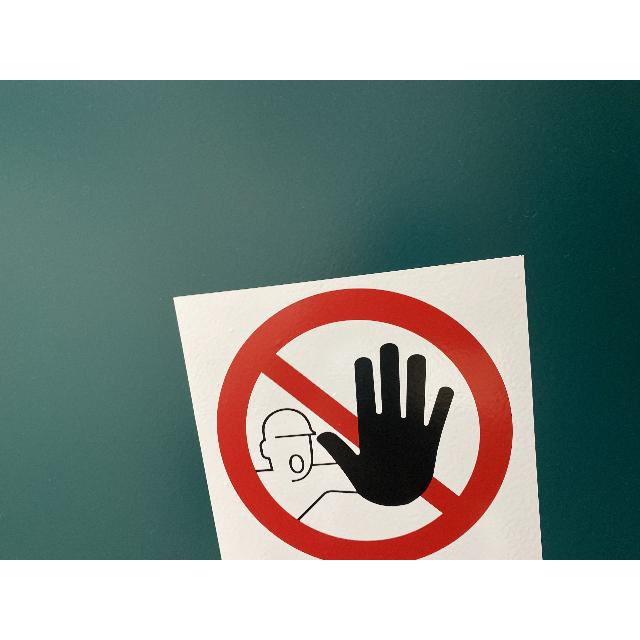No access for unauthorized persons: (216, 288, 514, 560)
